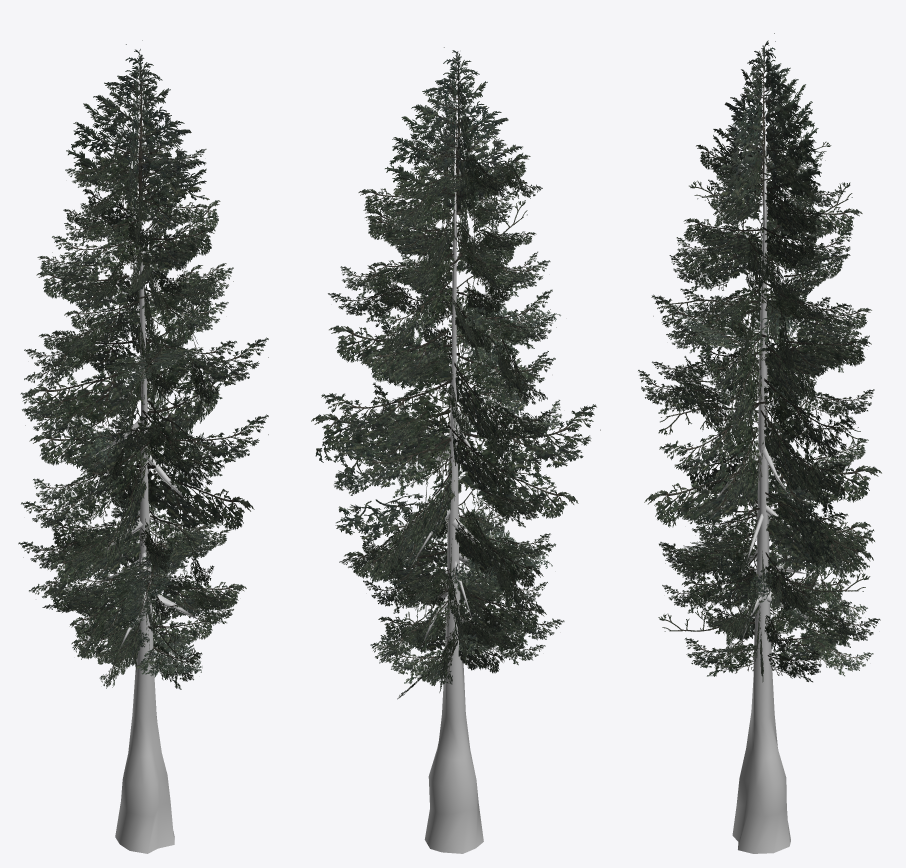
3 views of the same model, side by side, from view 1: azimuth 30°, elevation 25°; view 2: azimuth 150°, elevation 25°; view 3: azimuth 270°, elevation 25° (orthographic).
Visible parts, largest first — view 1: Tree_Branches_01, Tree_Trunk_01.001; view 2: Tree_Branches_01, Tree_Trunk_01.001; view 3: Tree_Branches_01, Tree_Trunk_01.001.
Boxes of the visible parts, x1,y1,x2,y2 form: Tree_Branches_01: [18, 40, 268, 689]; Tree_Trunk_01.001: [86, 207, 200, 853]; Tree_Branches_01: [311, 47, 600, 699]; Tree_Trunk_01.001: [404, 129, 506, 853]; Tree_Branches_01: [638, 33, 881, 682]; Tree_Trunk_01.001: [716, 114, 814, 853].
Size of the model in its own units: 7.81 by 25.41 by 7.49.
